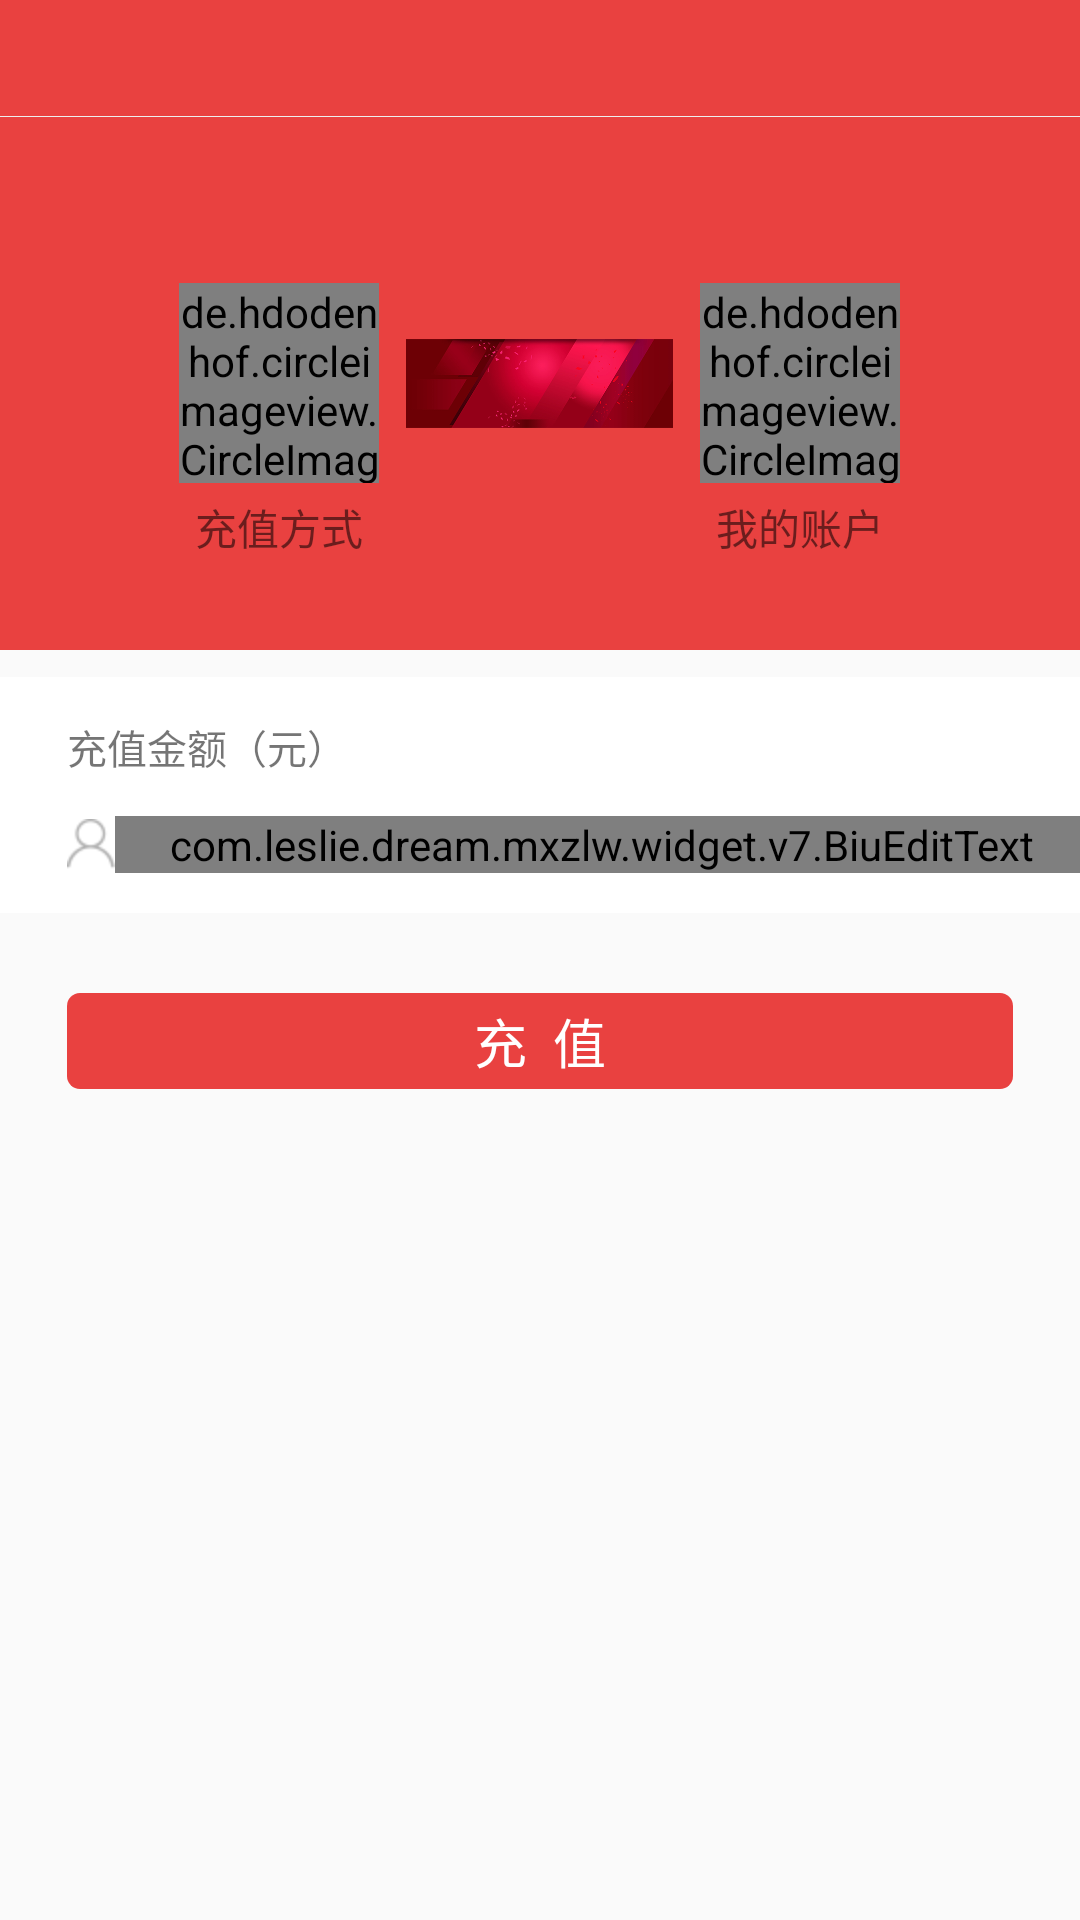

Point at icon controls on the screen. Image size 1080px×1920px, points as (x=x, y=y).
username: (x=91, y=843)
